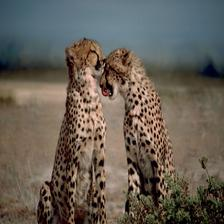Cheetah: (97, 47, 195, 224), (36, 33, 110, 222)
